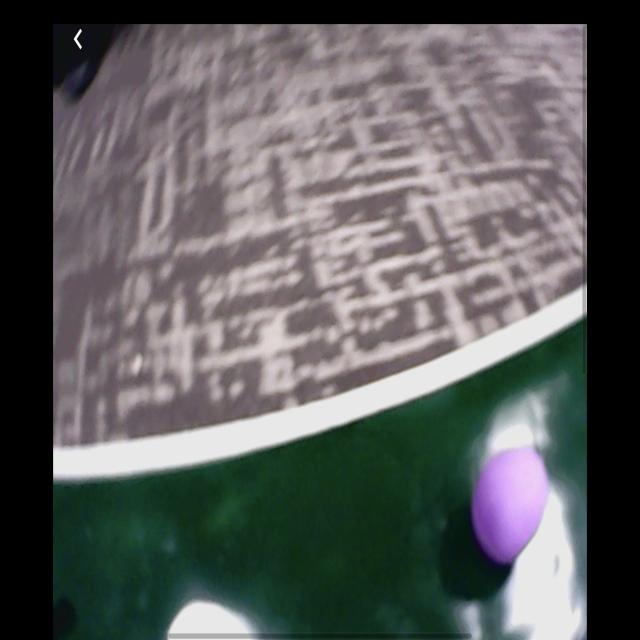ball: (471, 445, 551, 567)
